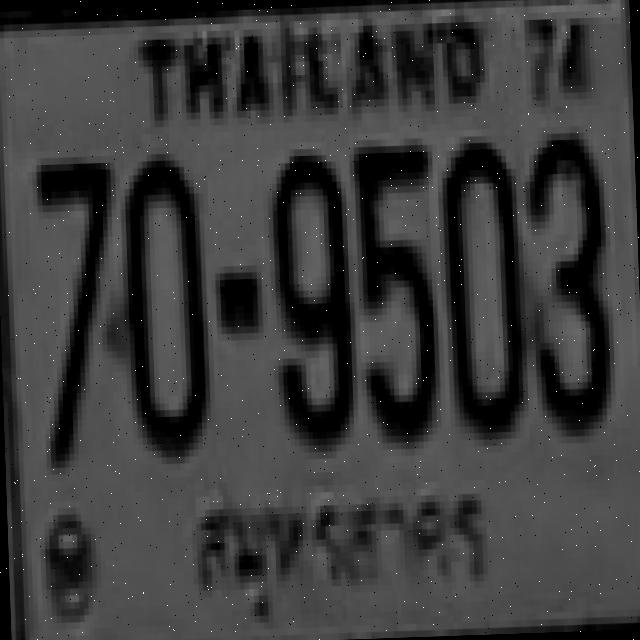0: (114, 152, 207, 452), (436, 134, 524, 433)
3: (520, 128, 610, 428)
5: (348, 138, 437, 436)
7: (31, 156, 115, 454), (30, 156, 111, 360)
9: (266, 148, 354, 440)
SamutSakhon: (173, 475, 500, 633)
